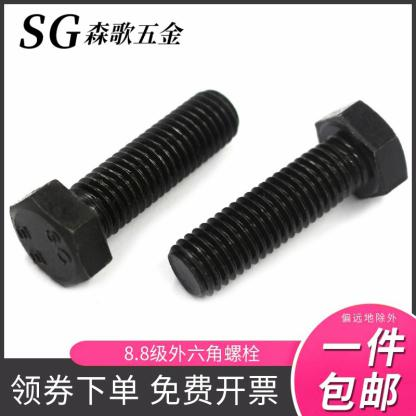FOD: (166, 96, 405, 302), (6, 87, 240, 293)
